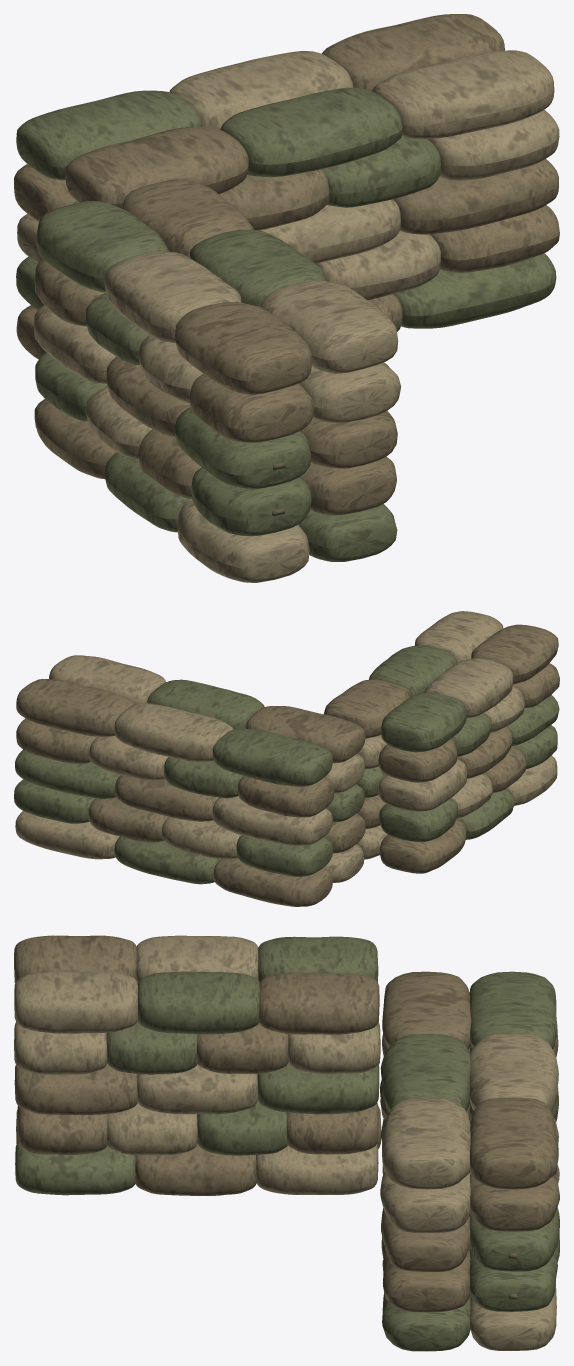
3 renders of one model, top to bottom at view 1: azimuth 30°, elevation 25°; view 2: azimuth 150°, elevation 25°; view 3: azimuth 270°, elevation 25°, orthographic. The views are drawn at different scales.
Parts seen in each view (by area): view 1: VIS_Canvas_Khaki, VIS_Canvas_Olive, VIS_Canvas_Dusty; view 2: VIS_Canvas_Khaki, VIS_Canvas_Olive, VIS_Canvas_Dusty; view 3: VIS_Canvas_Khaki, VIS_Canvas_Dusty, VIS_Canvas_Olive.
Boxes of the visible parts, bbox=[...] form: VIS_Canvas_Khaki: bbox=[14, 14, 559, 515]; VIS_Canvas_Olive: bbox=[16, 87, 556, 561]; VIS_Canvas_Dusty: bbox=[17, 50, 559, 582]; VIS_Canvas_Khaki: bbox=[16, 624, 559, 906]; VIS_Canvas_Olive: bbox=[14, 645, 559, 884]; VIS_Canvas_Dusty: bbox=[15, 611, 557, 882]; VIS_Canvas_Khaki: bbox=[14, 935, 559, 1312]; VIS_Canvas_Dusty: bbox=[14, 935, 559, 1350]; VIS_Canvas_Olive: bbox=[15, 936, 559, 1351].
Size of the model in its own units: 2.42 by 0.9966 by 2.4.
4 materials, 4 textured.
